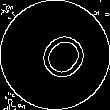O_SW: (22, 22, 88, 88)
